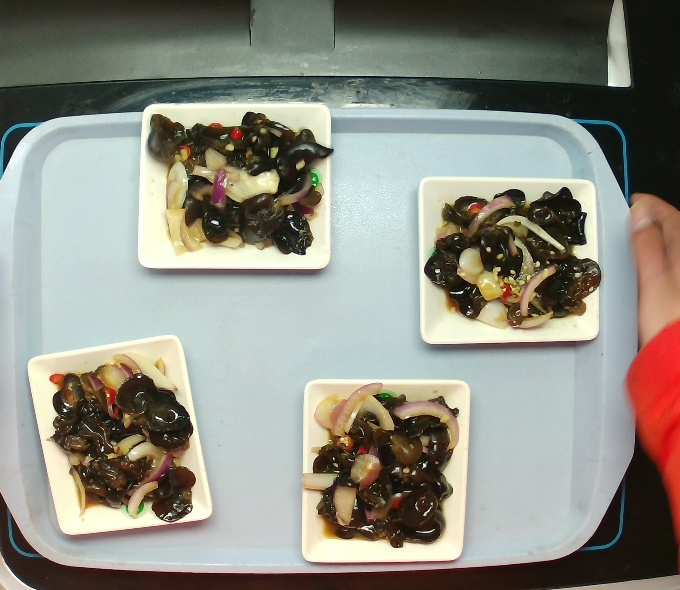wcq-LiangBanMuEr: (24, 347, 213, 537), (415, 183, 609, 330), (295, 386, 463, 547), (158, 108, 326, 265)
